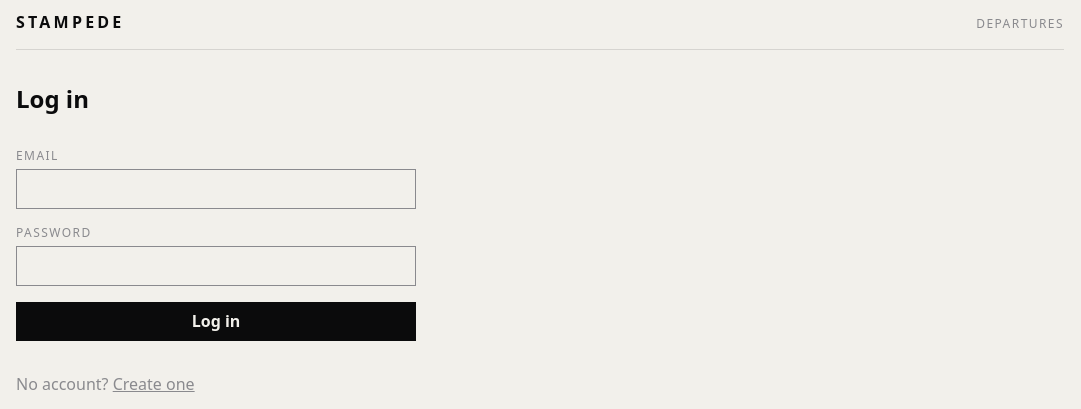
Test: RequireAuth and ?next= › sends a logged-out user to /login?next=..., then back to that page after logging in
The width and height of the screenshot is (1081, 409).
Type "fan@test.local" into the field labelled "Email" at (216, 189), box [16,169,416,209]
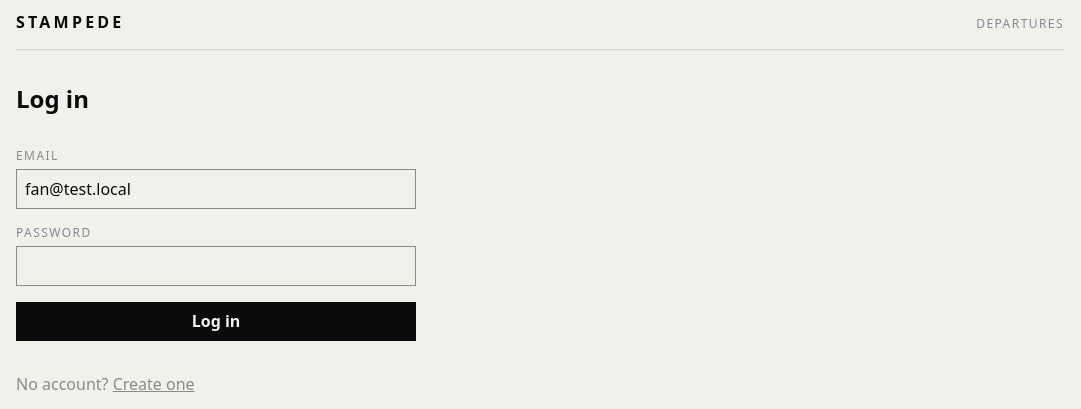
Type "correct-horse-battery" into the password field labelled "Password" at (216, 266), box [16,246,416,286]
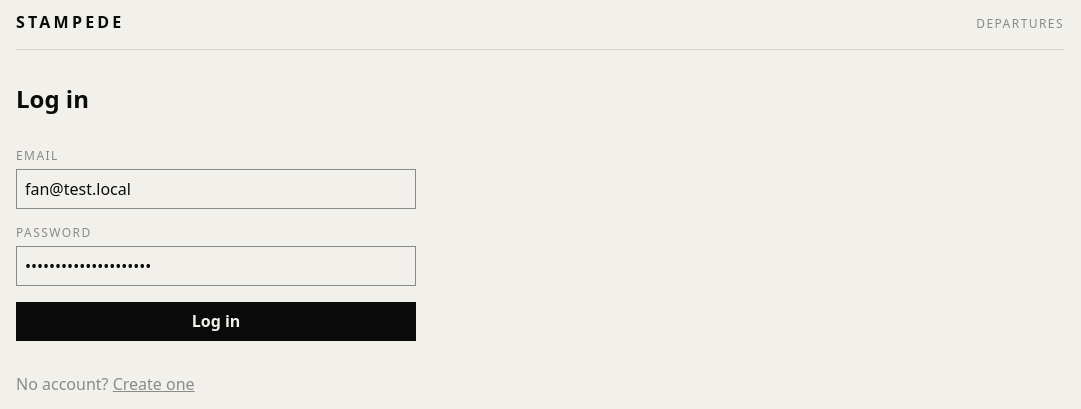
Click the button "Log in" at (216, 322), box [16,302,416,341]
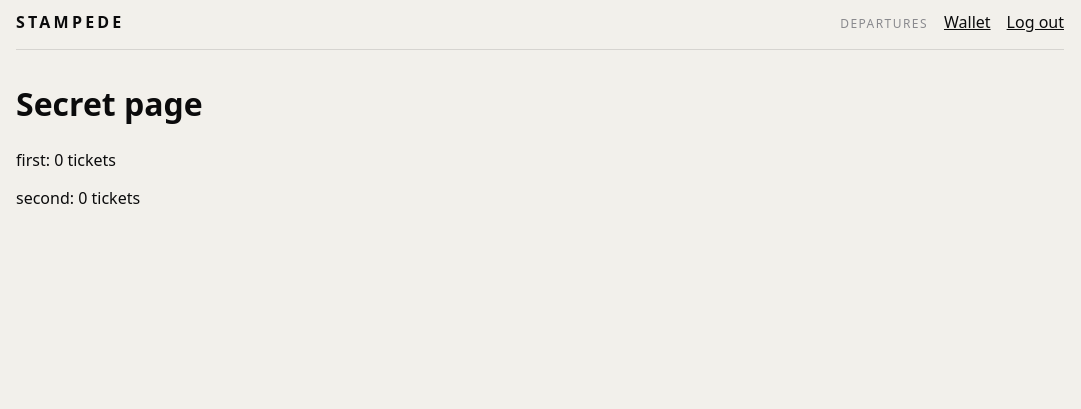
Check: the heading "Secret page" is shown, box [16,82,203,125]
Check: the text "second: 0 tickets" is shown, box [16,187,140,209]
